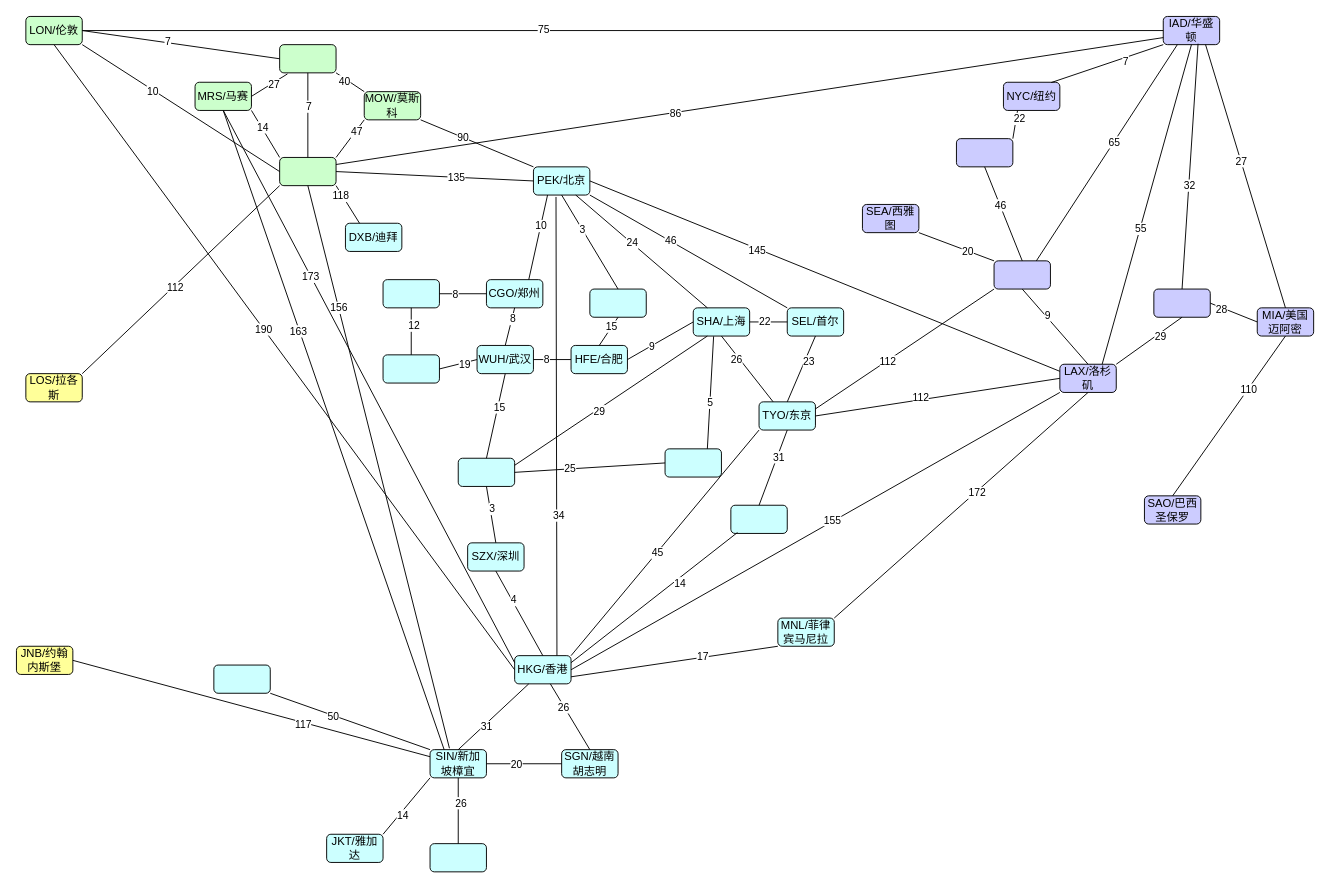
This 1330x888 diagram has some shape labels left out. The shapes that lost their labels are listed below. From the top down, each one's centre as x and y in pixels, then its label:
At (x=307, y=58): "AMS/阿姆斯特丹".
At (x=307, y=171): "FRA/德国法兰克福".
At (x=984, y=152): "CHI/芝加哥".
At (x=410, y=293): "XIY/西安咸阳".
At (x=1021, y=274): "SJC/加州圣何塞".
At (x=617, y=302): "TSN/天津".
At (x=1181, y=302): "DFW/美国达拉斯".
At (x=410, y=368): "CTU/成都".
At (x=486, y=471): "CAN/广州".
At (x=692, y=462): "HGH/杭州".
At (x=758, y=518): "TPE/台湾".
At (x=241, y=678): "BOM/孟买".
At (x=457, y=857): "BKK/泰国曼谷".
